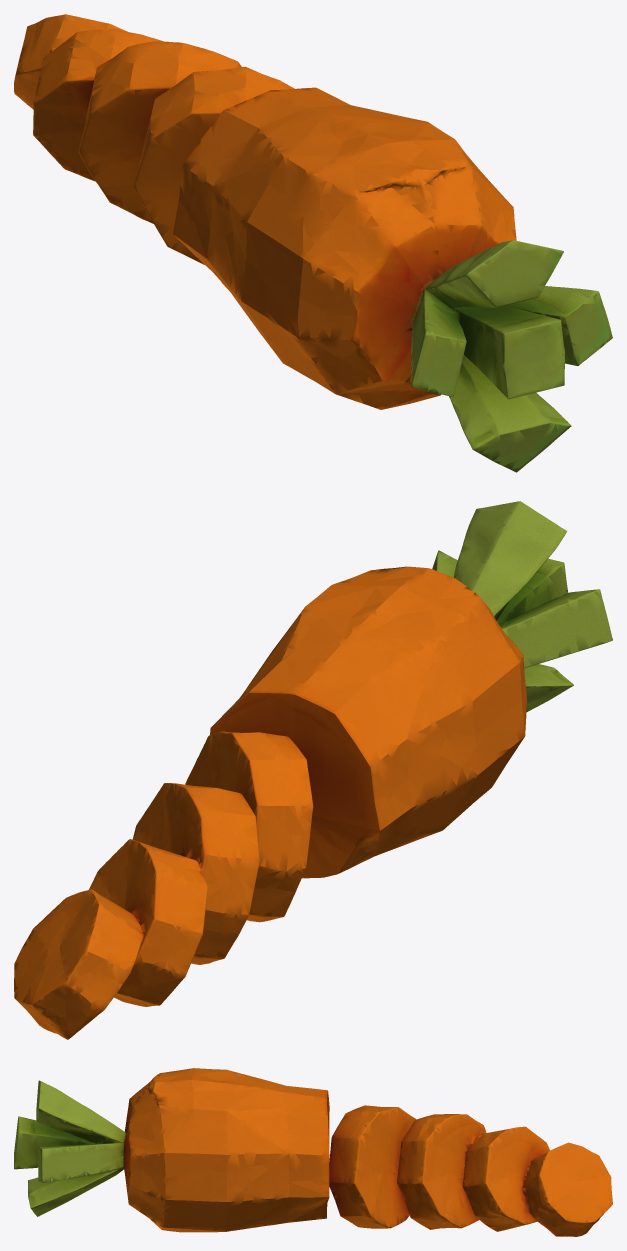
The model's file is new_carrot_3.fbx.
3 renders of one model, top to bottom at view 1: azimuth 30°, elevation 25°; view 2: azimuth 150°, elevation 25°; view 3: azimuth 270°, elevation 25°, orthographic. The views are drawn at different scales.
Parts seen in each view (by area): view 1: tripo_node_97c9a457; view 2: tripo_node_97c9a457; view 3: tripo_node_97c9a457.
Part boxes in pixels (bbox=[...]): tripo_node_97c9a457: bbox=[14, 14, 612, 472]; tripo_node_97c9a457: bbox=[14, 501, 612, 1039]; tripo_node_97c9a457: bbox=[14, 1068, 612, 1236].
Size of the model in its own units: 25.23 by 26.2 by 97.96.
1 material, 1 textured.
